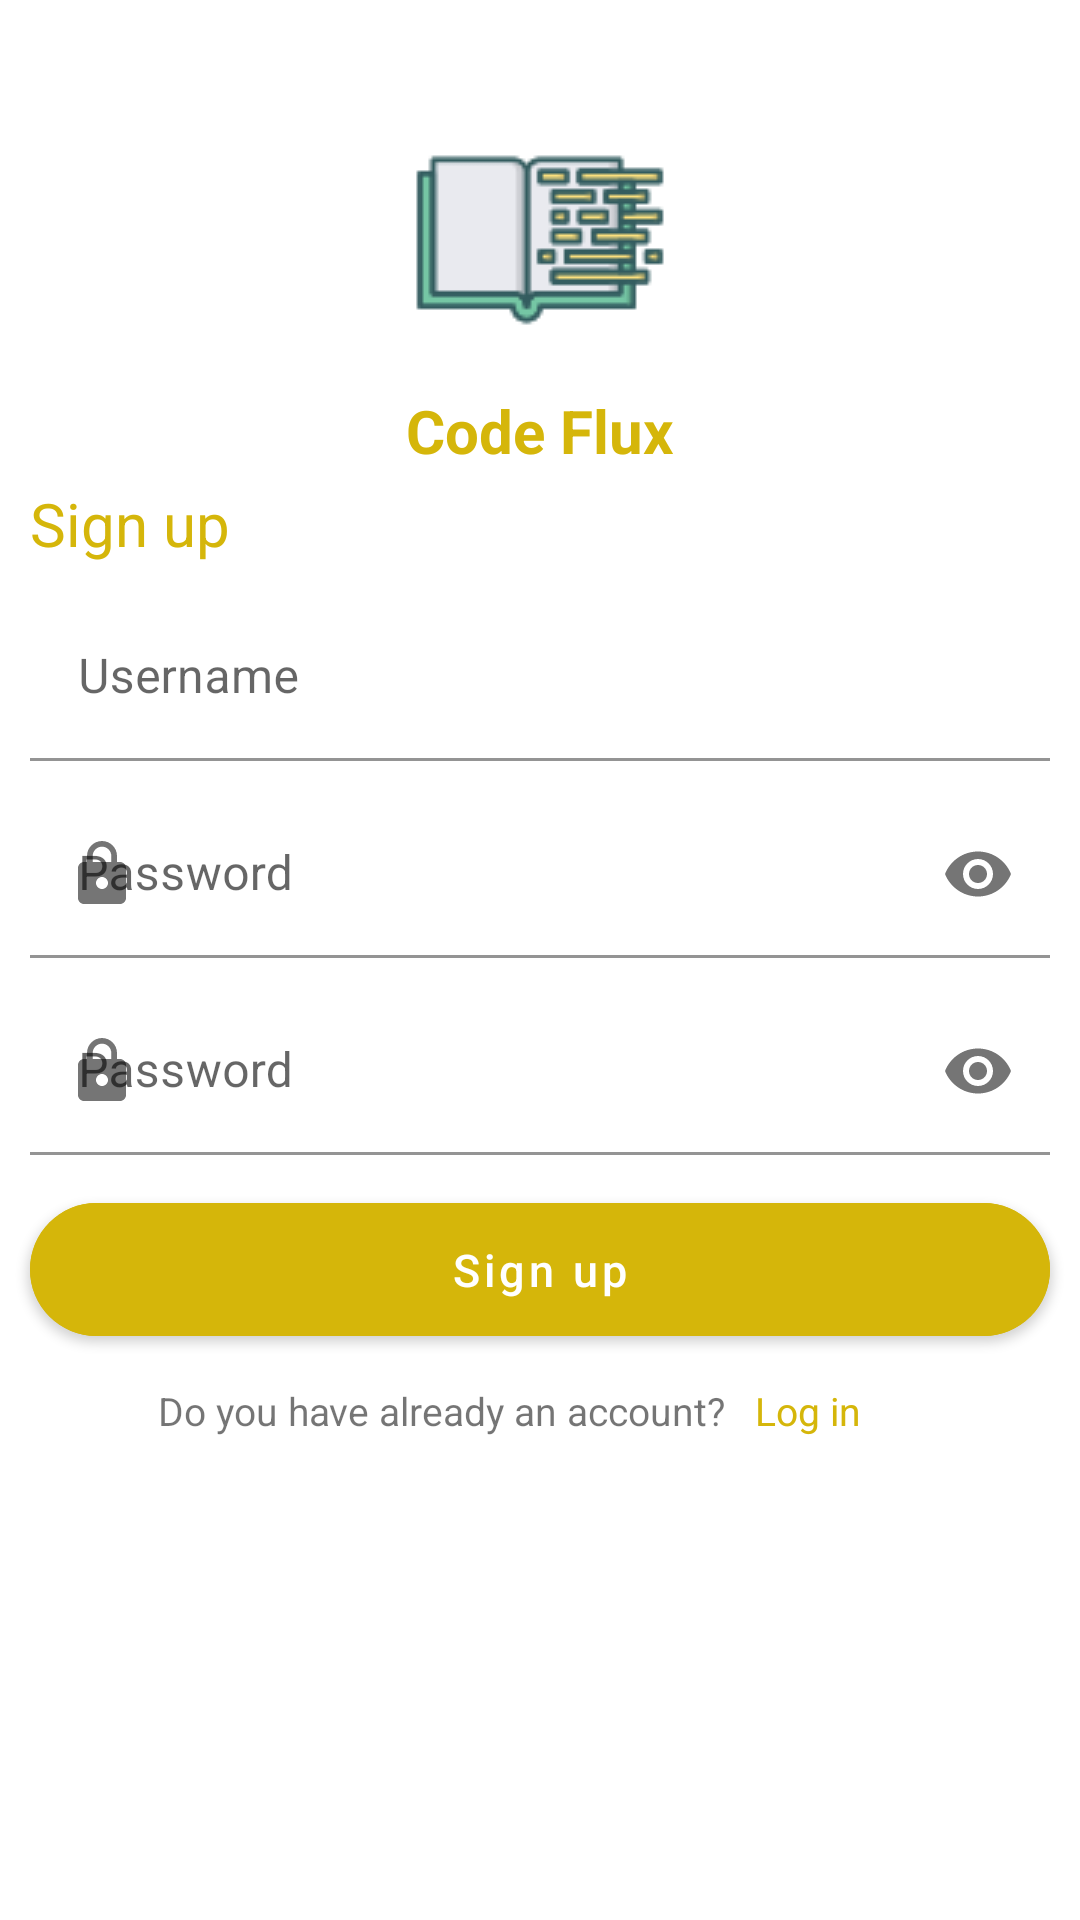

Icons on this 1080 x 1920 Android screen, each with the point to tap as (x=x, y=y):
bookonehundred: (x=540, y=240)
